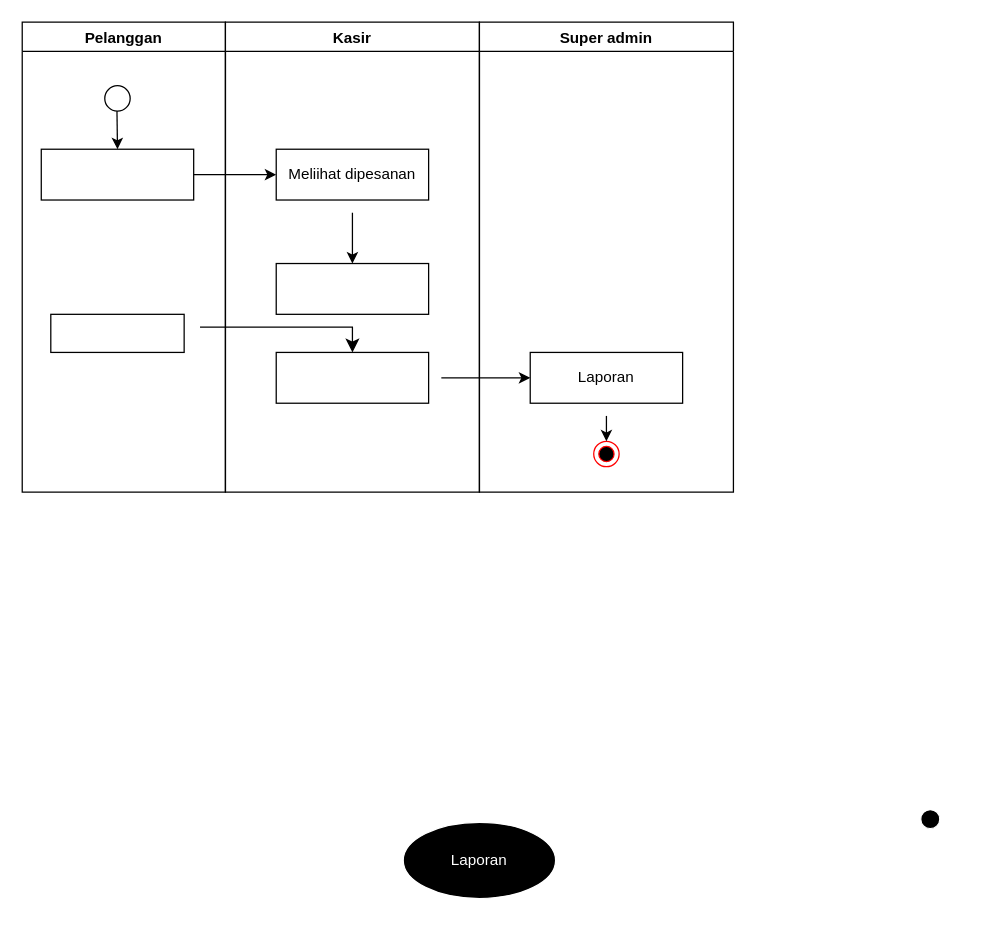
This 996x935 diagram has some shape labels left out. Each missing label, with the centre of its shape:
"Masukkan Pesanan" belongs at pixel 117 174.
"Memproses pesanan" belongs at pixel 352 288.
"Mengelola pembayaran" belongs at pixel 352 377.
"Pembayaran" belongs at pixel 117 332.
